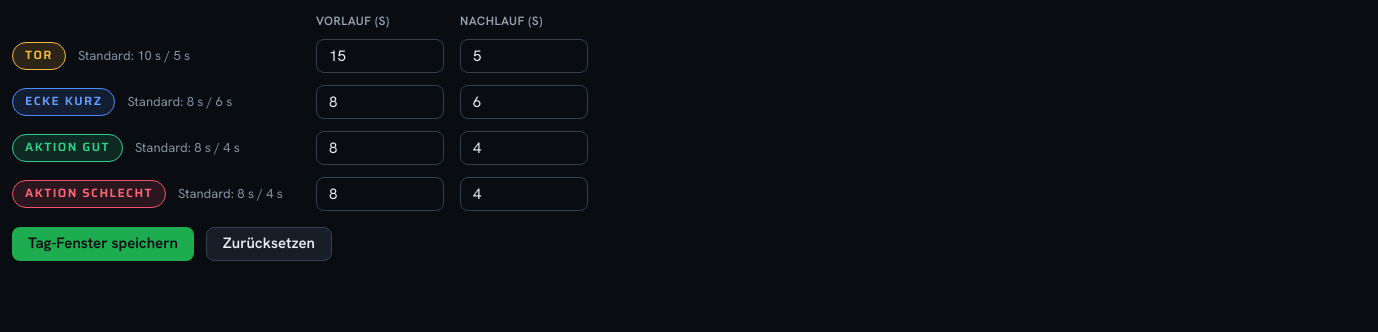
TagWindowsForm › resets to the defaults through the action
Click the button "Zurücksetzen" at (269, 244), box [206, 227, 332, 261]
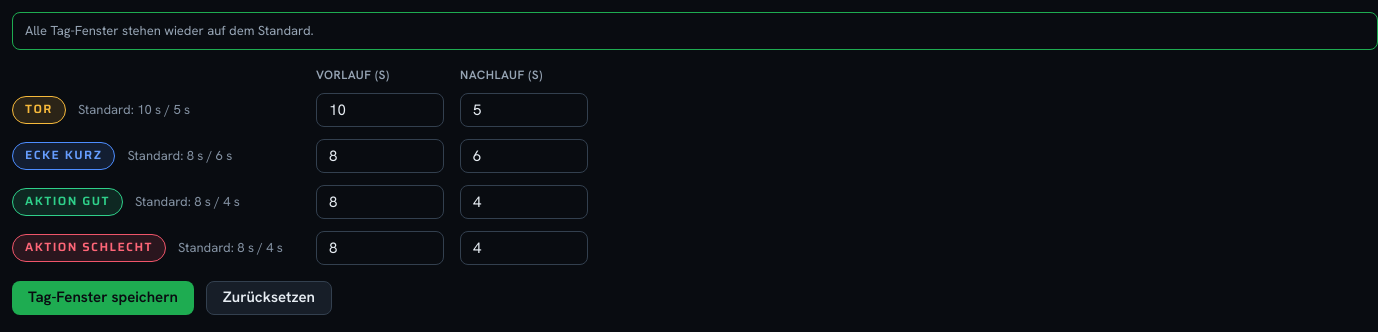
Now the number field named "Tor: Vorlauf (s)" holds "10", box [316, 93, 444, 127]
Now the message reads "Alle Tag-Fenster stehen wieder auf dem Standard.", box [25, 22, 314, 39]
